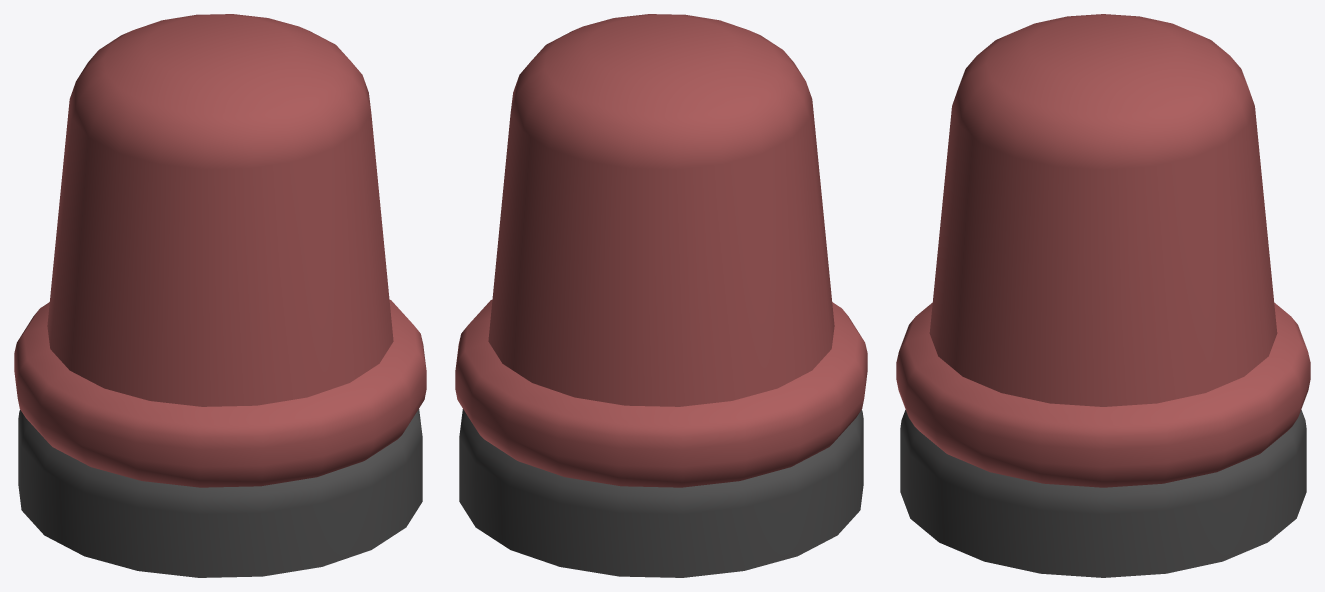
File: alarma.fbx
3 renders of one model, left to right at view 1: azimuth 30°, elevation 25°; view 2: azimuth 150°, elevation 25°; view 3: azimuth 270°, elevation 25°, orthographic.
Visible parts, largest first — view 1: alarma; view 2: alarma; view 3: alarma.
Part boxes in pixels (x1,y1,x2,y2): alarma: (14,14,426,577); alarma: (455,14,867,577); alarma: (896,14,1310,577).
Size of the model in its own units: 0.1264 by 0.1497 by 0.1264.
